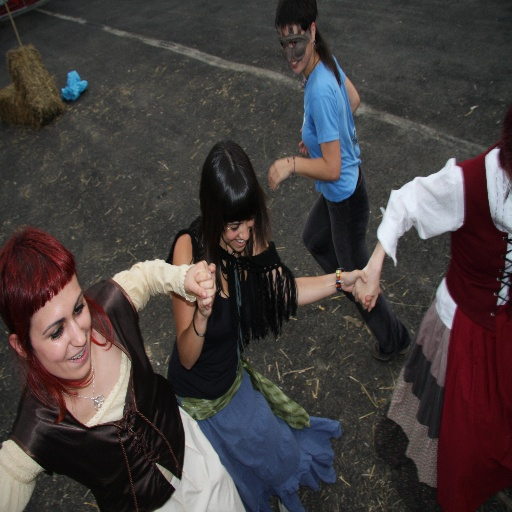hand: (340, 268, 384, 314), (350, 261, 380, 314), (197, 260, 217, 317), (264, 157, 294, 192), (297, 131, 308, 157)
